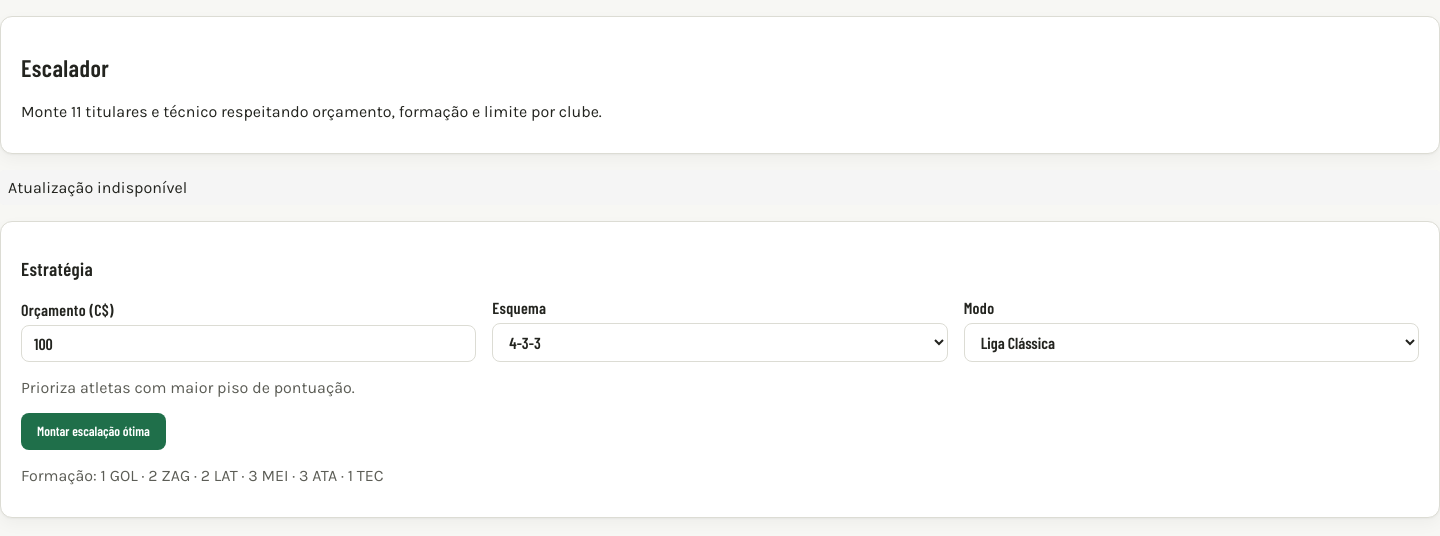
Test: Escalador › exibe nome e descrição de cada modo de otimização
expect the button "Montar escalação ótima" is shown: met, box 21,413 -> 166,450
expect the text "Prioriza atletas com maior piso de pontuação." is shown: met, box 21,378 -> 355,397
Select "Tiro Curto" in the dropdown labelled "Modo" at (1191, 342), box 964,323 -> 1419,362
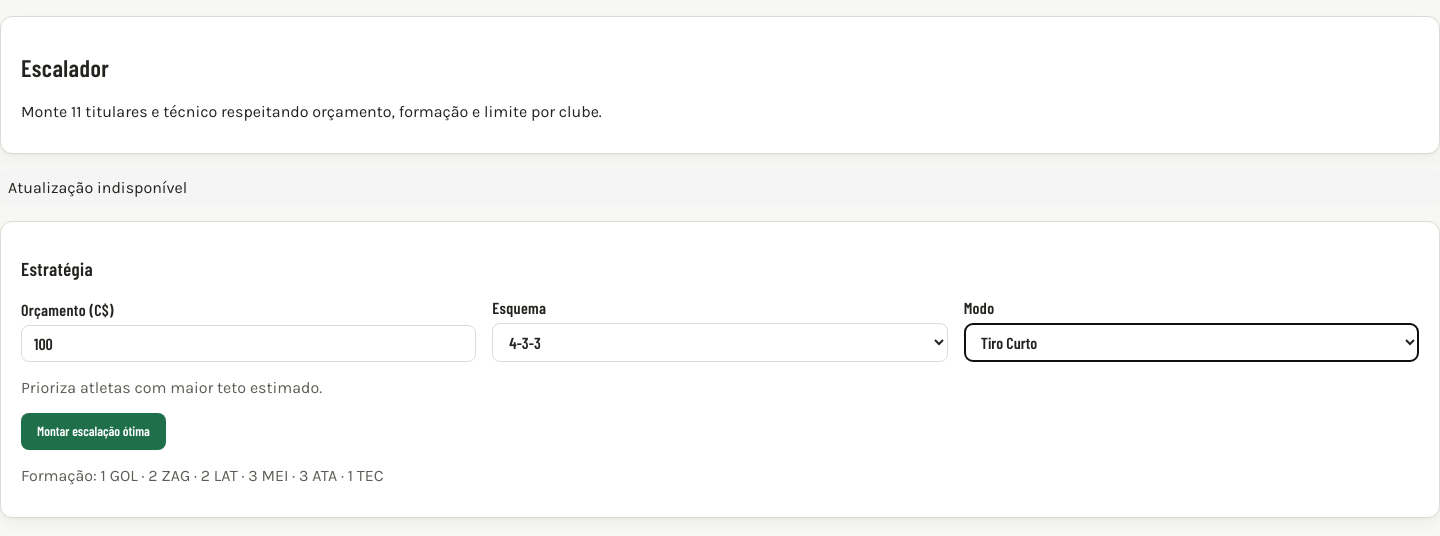
expect the text "Prioriza atletas com maior teto estimado." is shown: met, box 21,378 -> 322,397
Select "Patrimônio" in the dropdown labelled "Modo" at (1191, 342), box 964,323 -> 1419,362
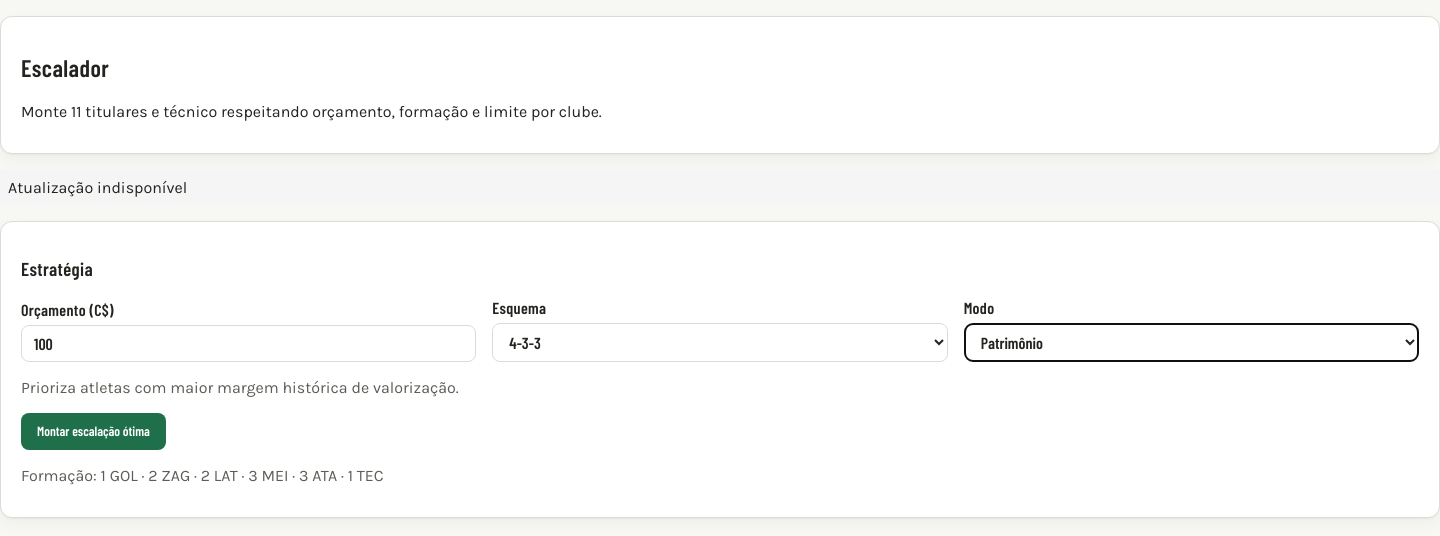
expect the text "Prioriza atletas com maior margem histórica de valorização." is shown: met, box 21,378 -> 459,397
Select "Overall equilibrado" in the dropdown labelled "Modo" at (1191, 342), box 964,323 -> 1419,362
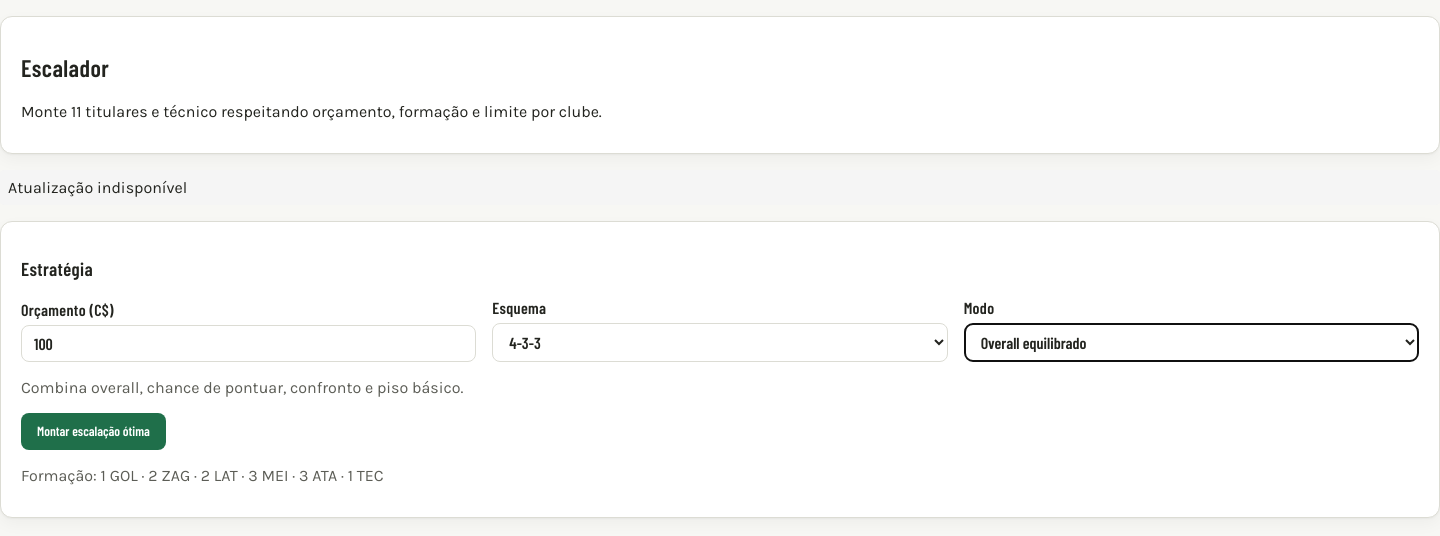
expect the text "Combina overall, chance de pontuar, confronto e piso básico." is shown: met, box 21,378 -> 463,397
